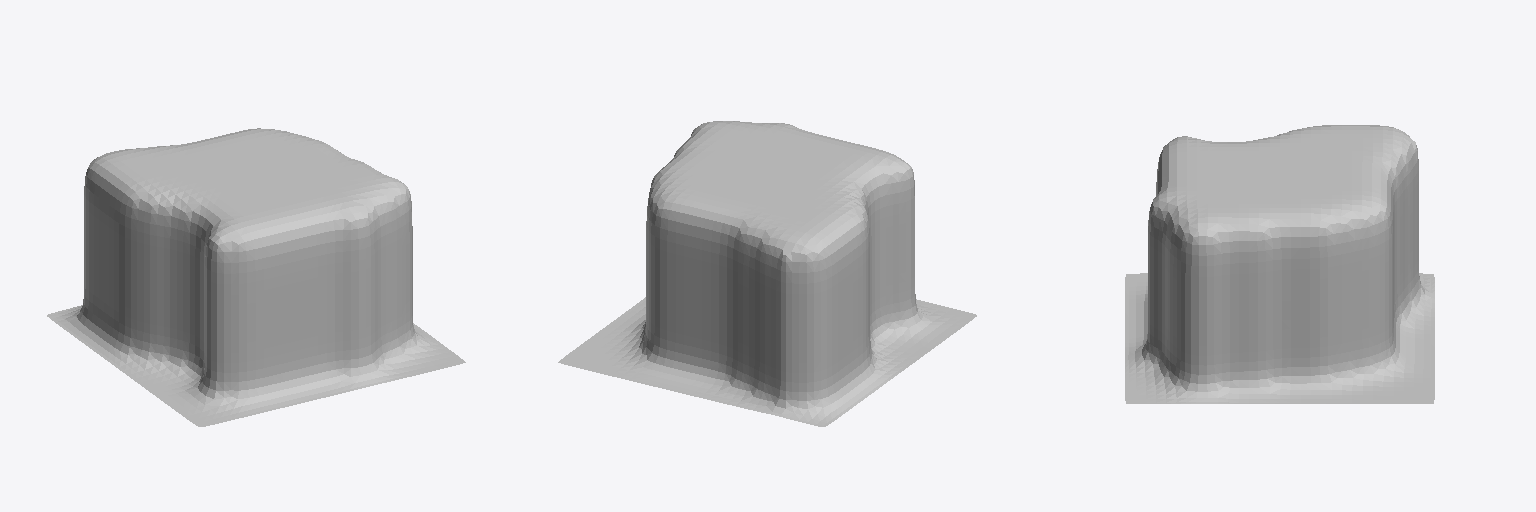
File: mesa1.obj
3 renders of one model, left to right at view 1: azimuth 30°, elevation 25°; view 2: azimuth 150°, elevation 25°; view 3: azimuth 270°, elevation 25°, orthographic.
Parts seen in each view (by area): view 1: Plane; view 2: Plane; view 3: Plane.
Part boxes in pixels (left/top/right/bottom): Plane: left=47, top=128, right=465, bottom=426; Plane: left=558, top=121, right=976, bottom=426; Plane: left=1125, top=125, right=1434, bottom=403.
Size of the model in its own units: 53.63 by 31.62 by 53.62.